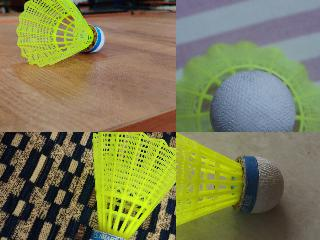shuttlecock: (176, 41, 319, 131), (176, 132, 284, 239), (87, 132, 175, 239), (14, 0, 106, 66)
